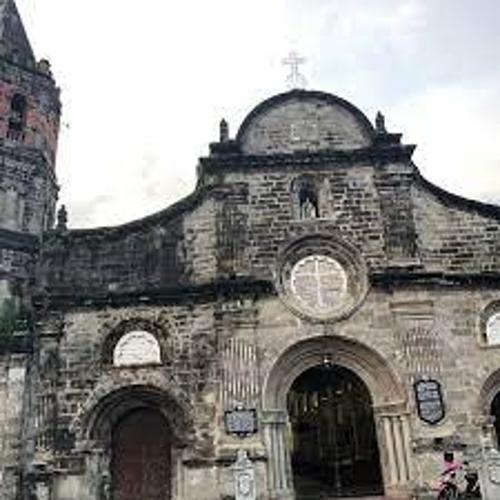Barasoain Church: (2, 2, 499, 497)
